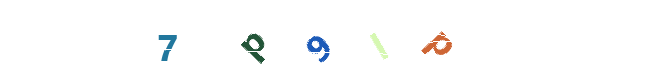7: (212, 0, 292, 80)
9: (282, 0, 362, 80)
L: (318, 0, 398, 80)
P: (214, 0, 294, 80), (398, 0, 478, 80)
